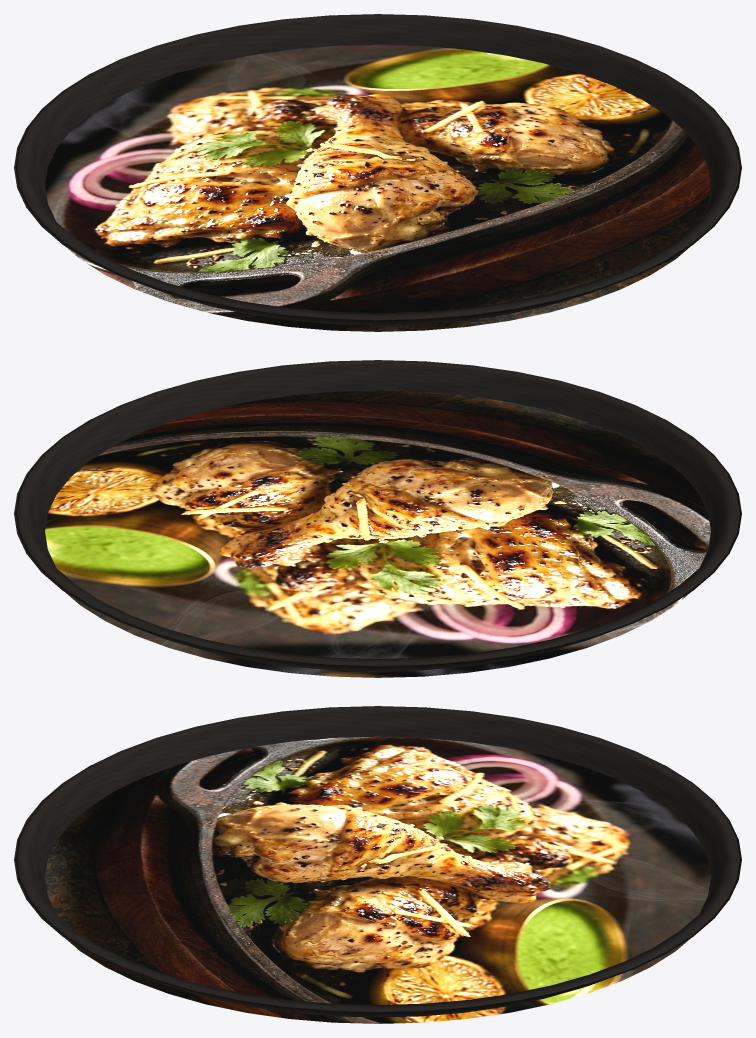
Rendered from afghani-chicken.glb.
3 views of the same model, one above another, from view 1: azimuth 30°, elevation 25°; view 2: azimuth 150°, elevation 25°; view 3: azimuth 270°, elevation 25° (orthographic).
Parts seen in each view (by area): view 1: FoodMound, StonewareVessel; view 2: FoodMound, StonewareVessel; view 3: FoodMound, StonewareVessel.
Part boxes in pixels (left/top/right/bottom): FoodMound: left=45, top=44, right=710, bottom=331; StonewareVessel: left=14, top=14, right=741, bottom=325; FoodMound: left=45, top=390, right=710, bottom=677; StonewareVessel: left=14, top=360, right=741, bottom=671; FoodMound: left=45, top=736, right=710, bottom=1023; StonewareVessel: left=14, top=706, right=741, bottom=1017.
Size of the model in its own units: 0.29 by 0.0225 by 0.29.
2 materials, 2 textured.
